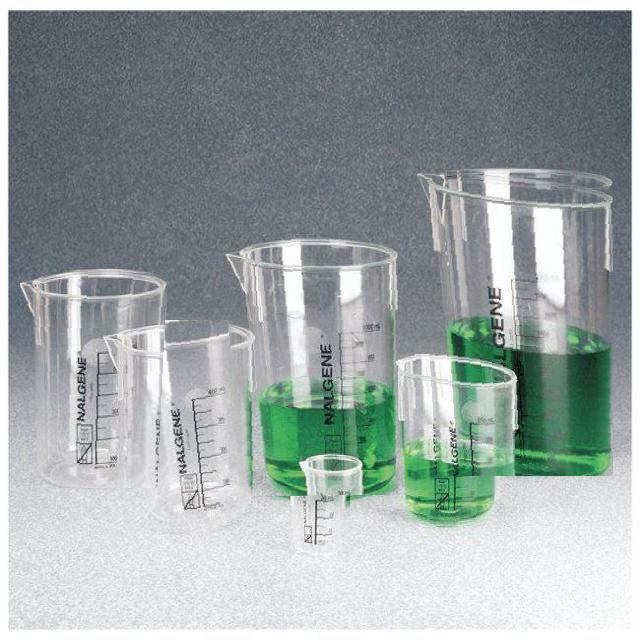Glass: (417, 169, 613, 476), (223, 238, 398, 496), (20, 270, 167, 488), (106, 320, 252, 532), (386, 354, 504, 529), (283, 452, 350, 560)
